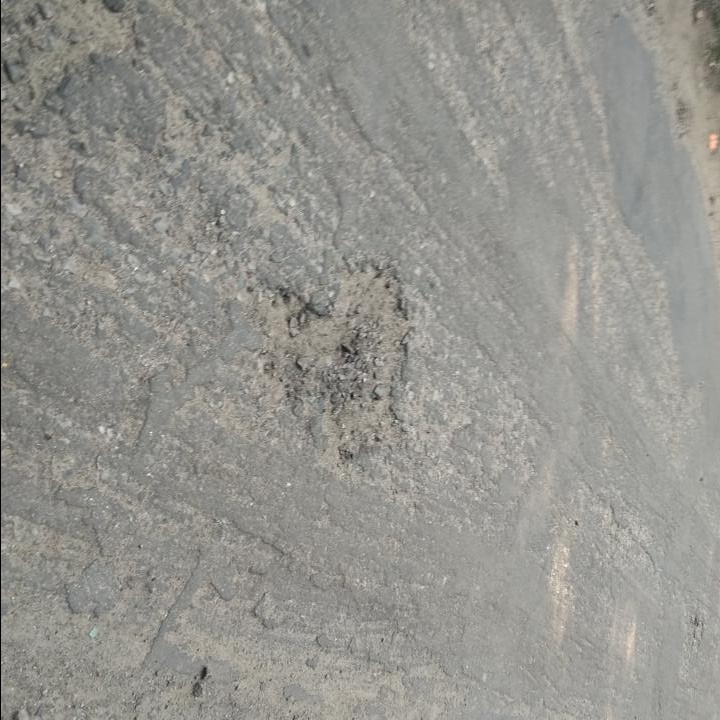pothole: (250, 255, 422, 462)
